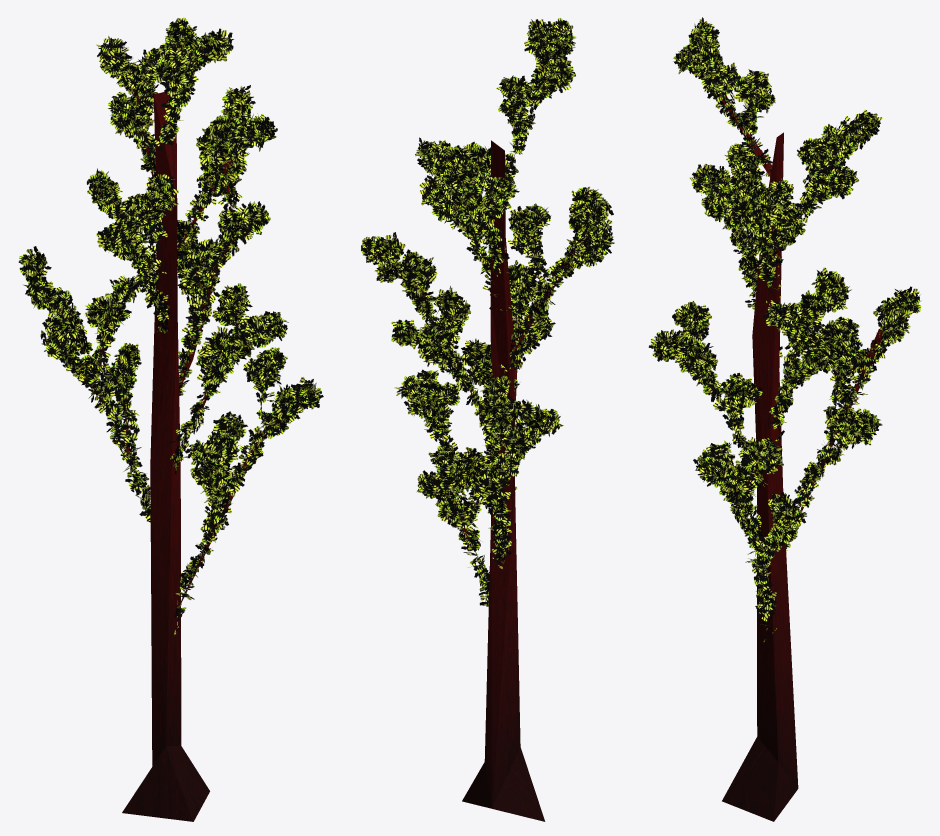
The model's file is baldcypress_v02_LOD1.glb.
The picture shows the model from 3 angles, left to right: view 1: azimuth 30°, elevation 25°; view 2: azimuth 150°, elevation 25°; view 3: azimuth 270°, elevation 25°; orthographic projection. The views are drawn at different scales.
Visible parts, largest first — view 1: baldcypress_v02_LOD1; view 2: baldcypress_v02_LOD1; view 3: baldcypress_v02_LOD1.
Part boxes in pixels (box(x1,y1,x2,y2)): baldcypress_v02_LOD1: box(18, 17, 323, 821); baldcypress_v02_LOD1: box(360, 18, 614, 821); baldcypress_v02_LOD1: box(648, 17, 921, 821).
Size of the model in its own units: 8.68 by 30.14 by 9.87.
2 materials, 2 textured.
